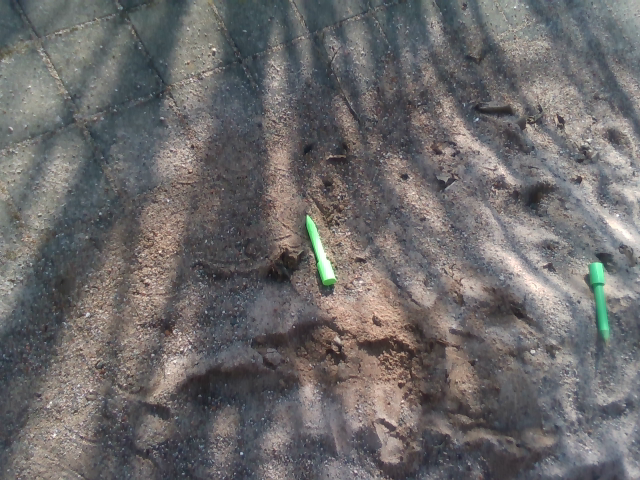Probe: (302, 209, 340, 292), (586, 258, 614, 351)
